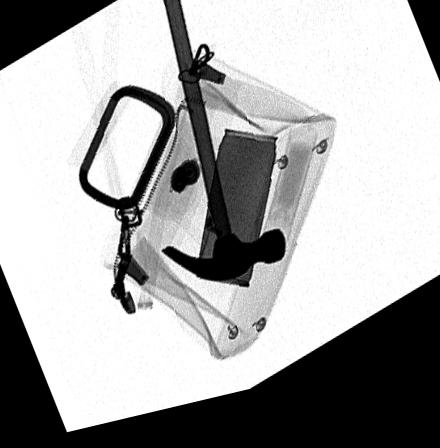Hammer: (160, 0, 287, 294)
